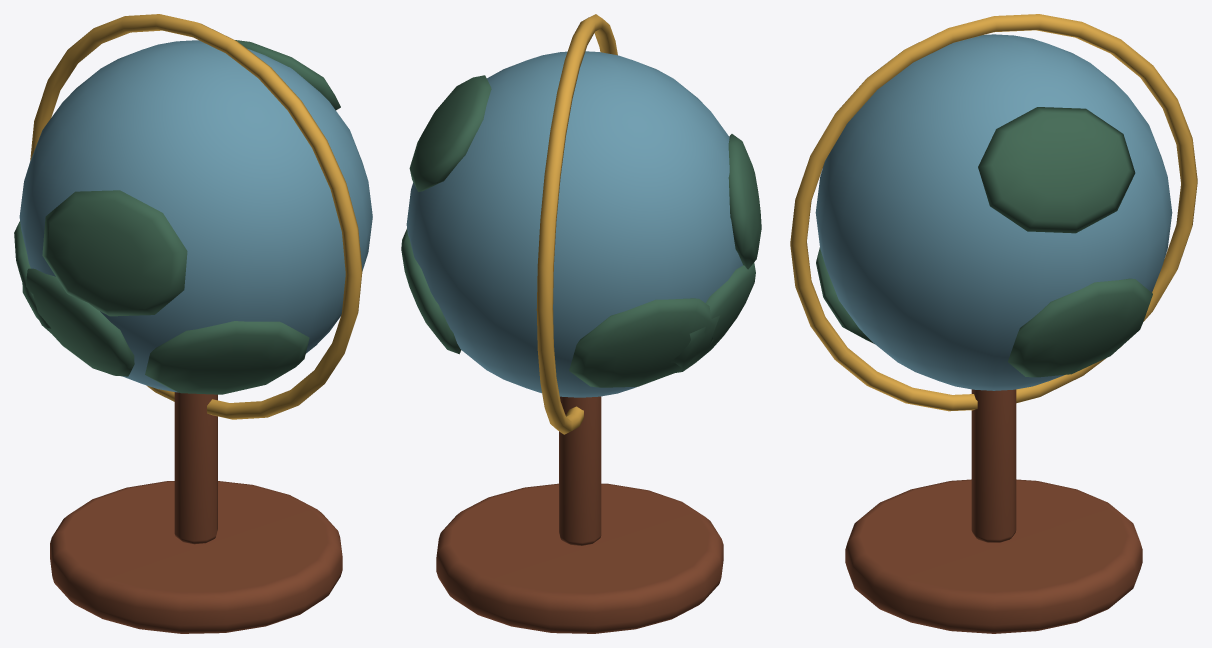
The model's file is globe.glb.
3 views of the same model, side by side, from view 1: azimuth 30°, elevation 25°; view 2: azimuth 150°, elevation 25°; view 3: azimuth 270°, elevation 25° (orthographic). The views are drawn at different scales.
Parts seen in each view (by area): view 1: globe; view 2: globe; view 3: globe.
Part boxes in pixels (x1,y1,x2,y2): globe: (14, 14, 372, 633); globe: (401, 14, 761, 633); globe: (790, 14, 1197, 633).
Size of the model in its own units: 0.2475 by 0.416 by 0.2744.
